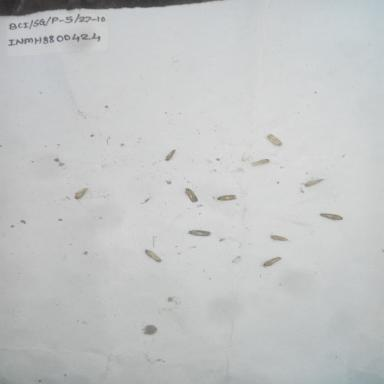pbw: (260, 130, 289, 150), (317, 209, 348, 227), (180, 185, 200, 205), (247, 155, 273, 169), (301, 177, 326, 189), (260, 256, 284, 268), (143, 248, 162, 262), (184, 228, 212, 237), (73, 188, 92, 200), (215, 194, 238, 203), (269, 234, 291, 242), (164, 148, 176, 161)
